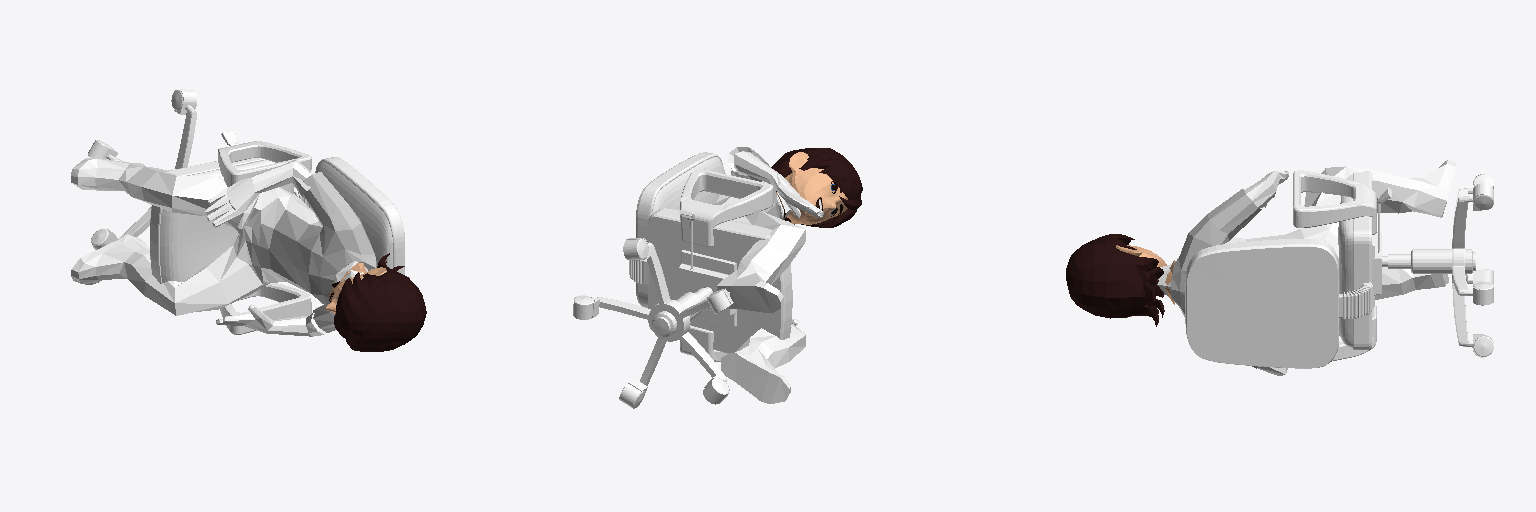
The picture shows the model from 3 angles: view 1: azimuth 30°, elevation 25°; view 2: azimuth 150°, elevation 25°; view 3: azimuth 270°, elevation 25°; orthographic projection.
Visible parts, largest first — view 1: Object.1, Object.2, Object.11, Object.9, Object.10, Object.12; view 2: Object.2, Object.1, Object.11, Object.12, Object.9; view 3: Object.2, Object.1, Object.11, Object.9.
Part boxes in pixels (x1,y1,x2,y2): Object.1: (71,157,377,332); Object.2: (88,89,404,334); Object.11: (334,253,426,351); Object.9: (204,159,312,228); Object.10: (216,304,330,336); Object.12: (326,262,386,313); Object.2: (574,152,792,408); Object.1: (714,147,805,403); Object.11: (771,148,862,227); Object.12: (776,152,847,224); Object.9: (734,151,823,217); Object.2: (1185,170,1483,368); Object.1: (1171,160,1455,368); Object.11: (1066,234,1164,326); Object.9: (1245,171,1288,207).
Bounding box in the file's own units: 208 × 178 × 375.
Materials: 4 (1 with a texture image).